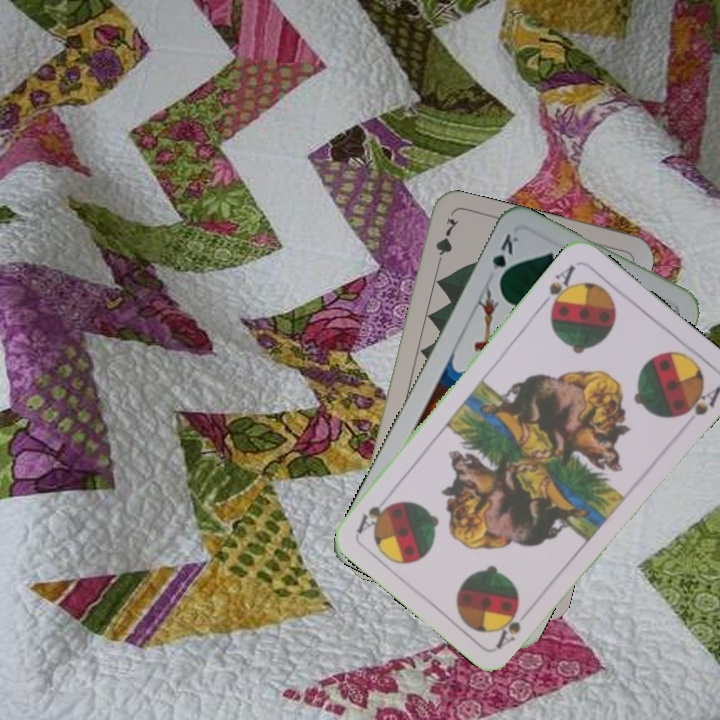G7: (431, 213, 461, 272)
GK: (487, 228, 521, 286)
SA: (537, 260, 578, 315), (491, 603, 536, 651)
